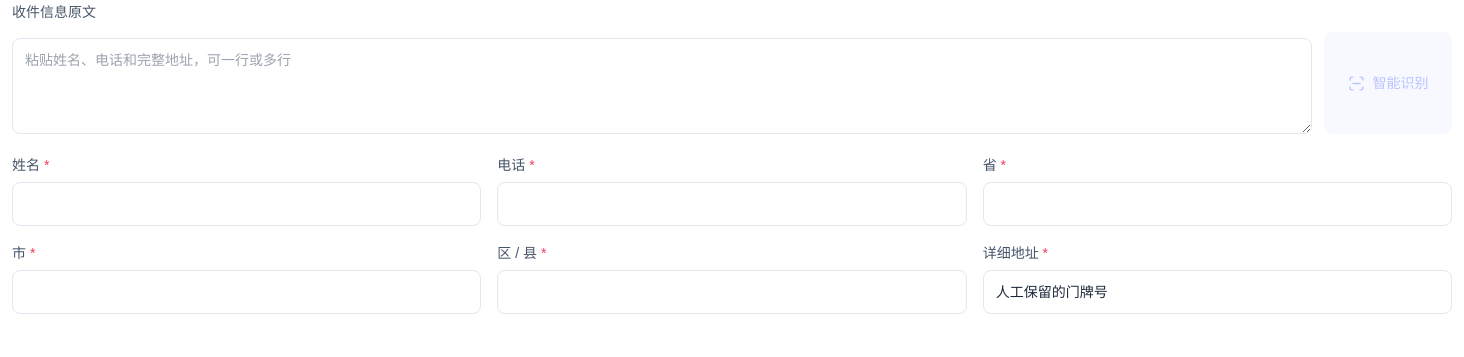
RecipientRecognitionCard › does not blank manually entered values when recognition is partial
Type "收件人：王先生 电话：13900001086" into the text box with test id "recipient-raw". click: (662, 86)
box: top-left (12, 38), bottom-right (1312, 134)
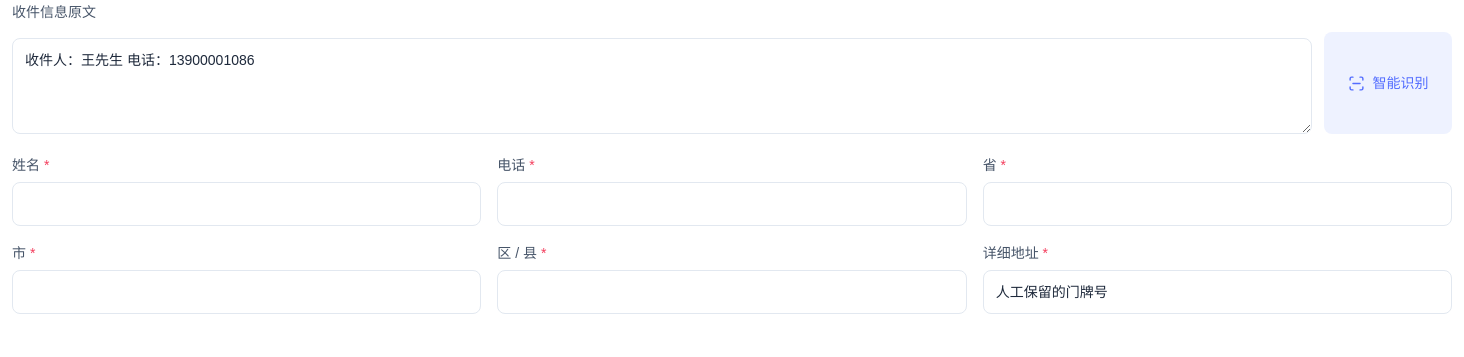
Click the button with test id "recipient-recognize". click: (1388, 83)
box: top-left (1324, 32), bottom-right (1452, 134)
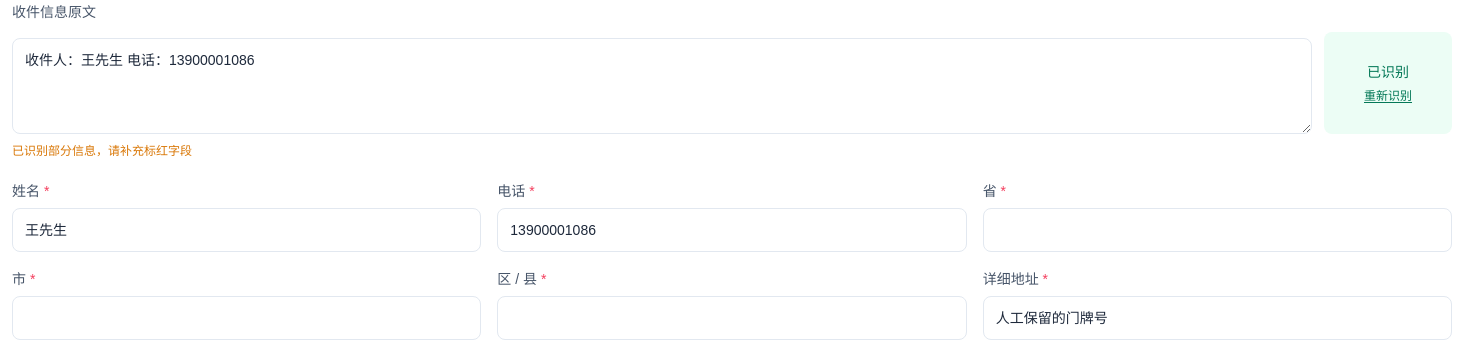
Expected: the field with test id "recipient-detail-address" holds "人工保留的门牌号", top-left (983, 296), bottom-right (1452, 340)
Now the text "已识别部分信息" is shown, box top-left (12, 144), bottom-right (192, 158)
